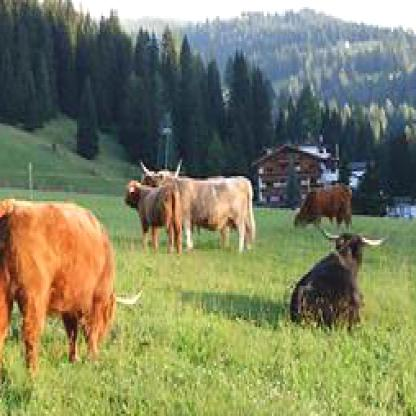cow: (2, 196, 144, 388), (140, 155, 260, 254), (284, 226, 387, 334), (124, 181, 182, 256), (288, 180, 354, 228)
